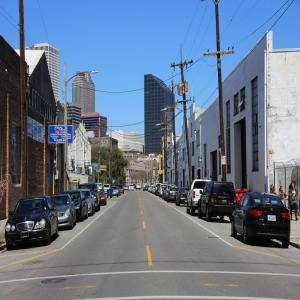Vehicle-registration-plate: (269, 216, 277, 223)
